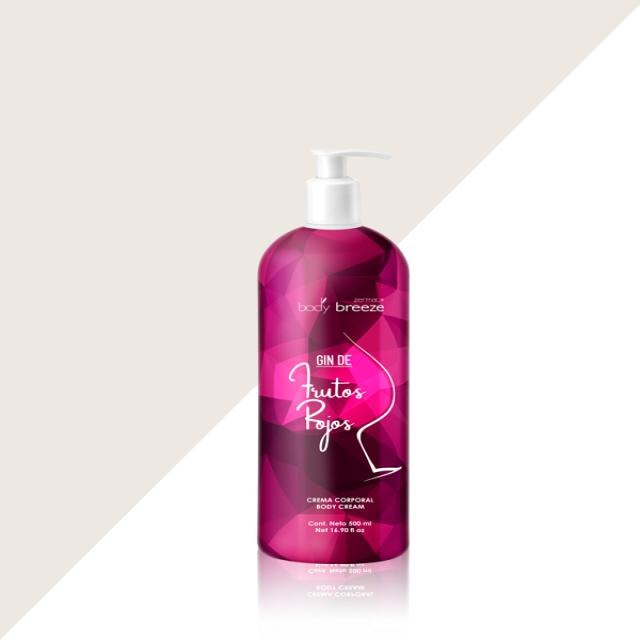Botella: (253, 133, 419, 571)
